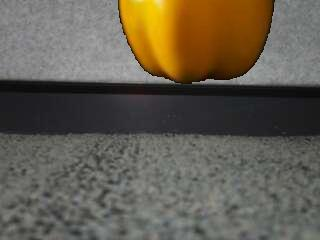Capsicum: (118, 1, 276, 86)
